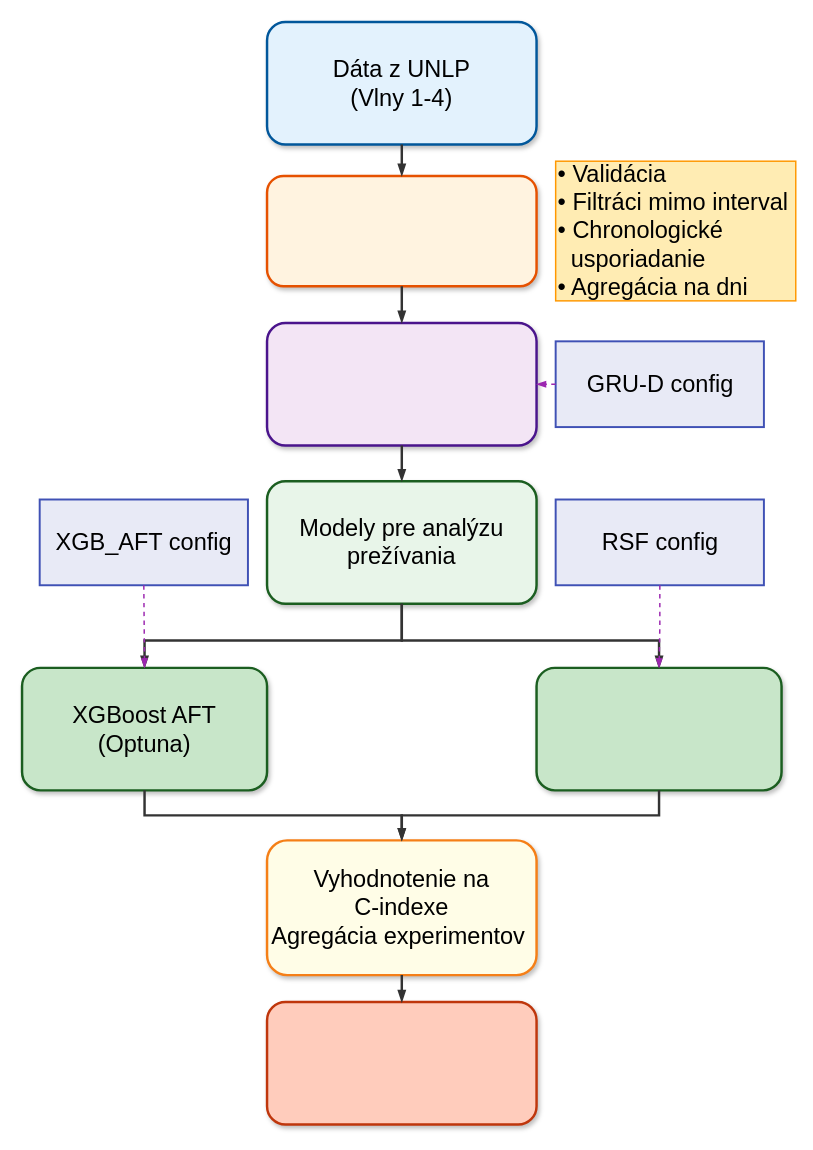
This 813x1150 diagram has some shape labels left out. Each missing label, with the centre of its shape:
"Export výsledkov (JSON, YAML, .pkl)" belongs at point (402, 1064).
"GRU-D - doplnenie hodnôt (Optuna)" belongs at point (402, 385).
"Predspracovanie dát Train/Test dáta" belongs at point (402, 232).
"Random Survival Forest (Optuna)" belongs at point (659, 730).
